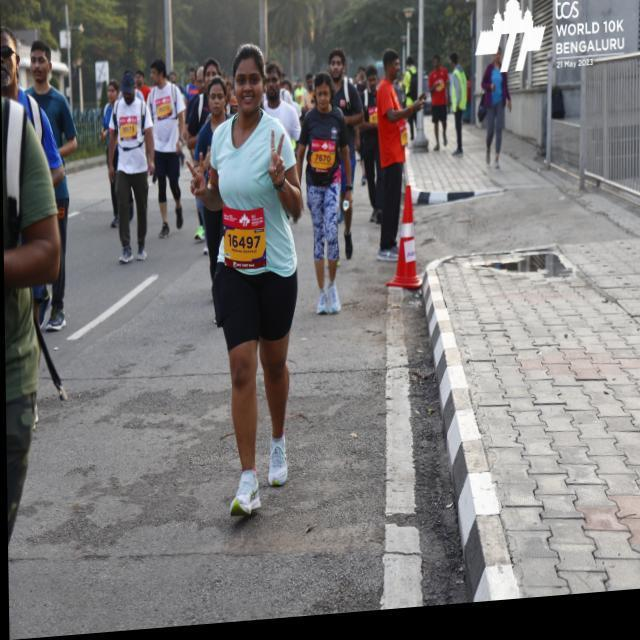dorsal: (220, 204, 267, 275), (310, 141, 334, 180)
